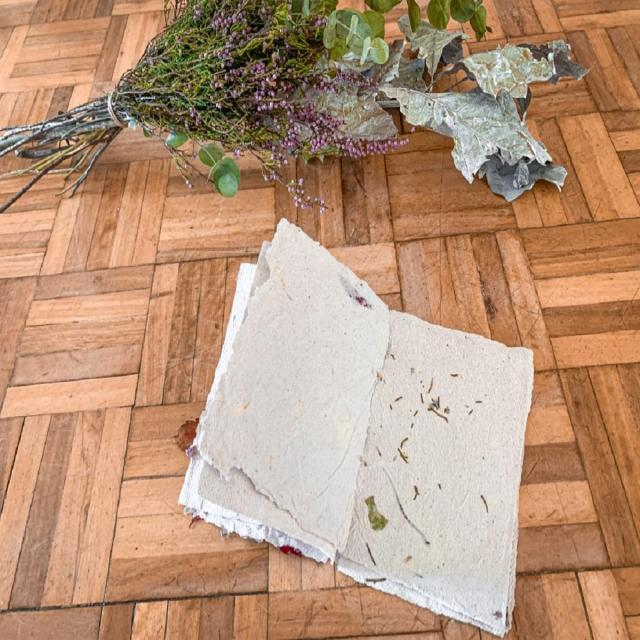Papel: (179, 217, 537, 638)
